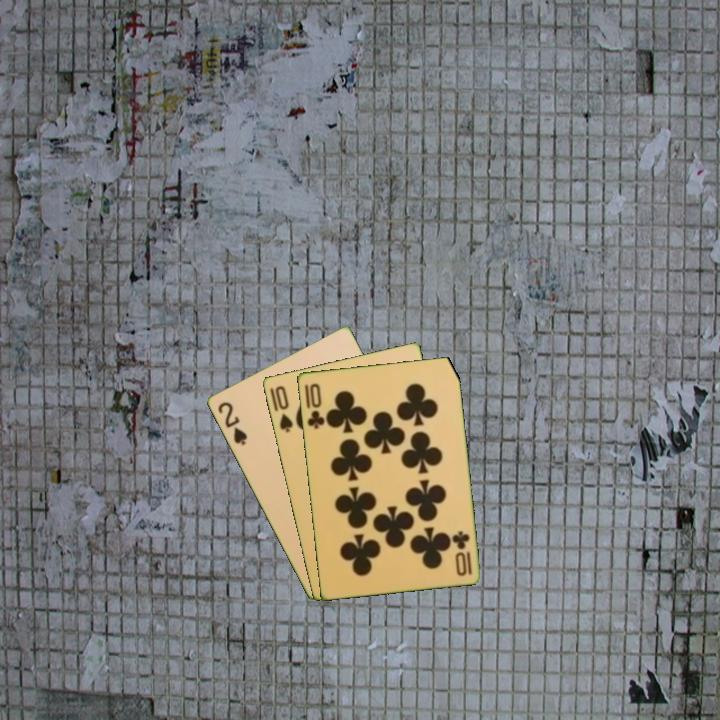10c: (449, 527, 474, 579), (303, 380, 327, 432)
10s: (271, 382, 295, 435)
2s: (214, 398, 250, 449)
